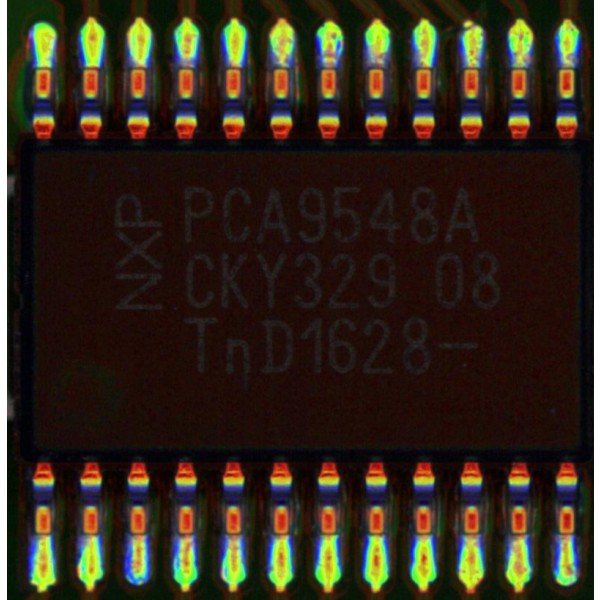Bad_podu: (180, 524, 194, 555), (228, 524, 241, 555), (514, 521, 526, 553), (132, 522, 144, 552), (561, 523, 573, 553)
